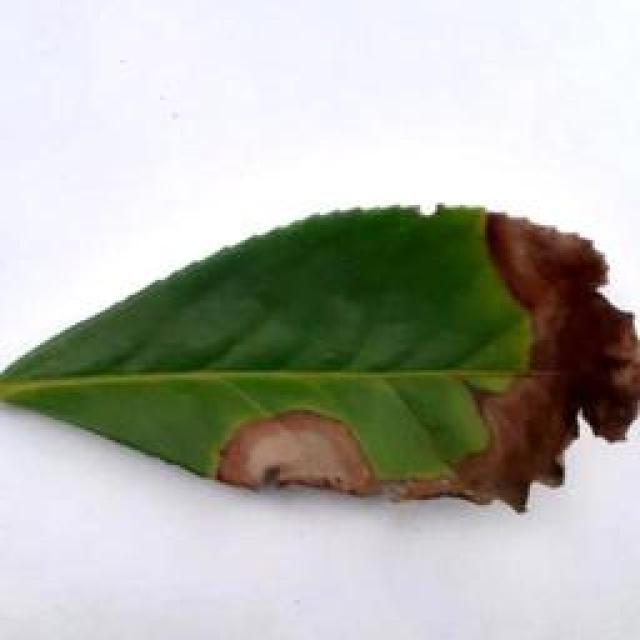Gray Blight: (2, 200, 640, 518)
